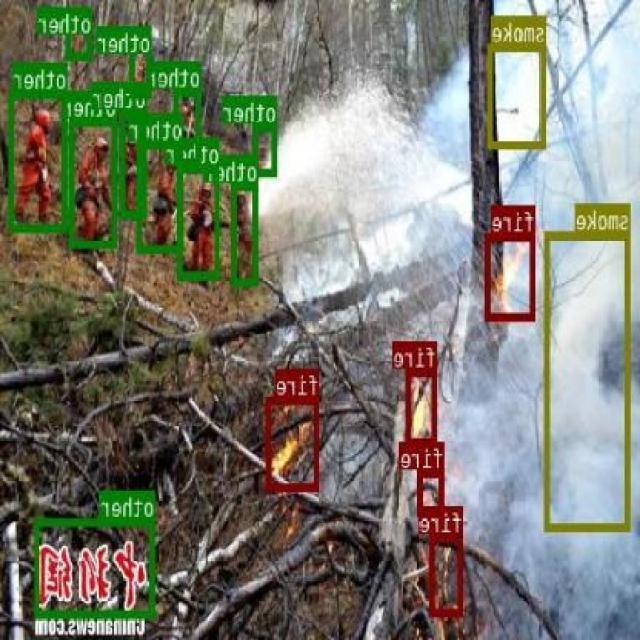Fire: (268, 396, 320, 490), (487, 232, 536, 320), (430, 532, 464, 616), (406, 368, 439, 446), (418, 469, 444, 514)
Smoke: (280, 90, 411, 294), (546, 230, 632, 530), (490, 42, 548, 147)
